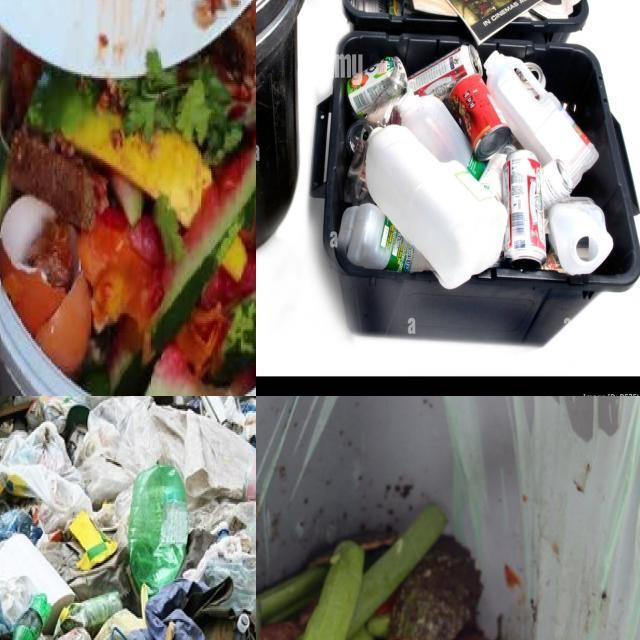Garbage: (0, 0, 256, 396), (336, 46, 613, 287), (0, 396, 256, 640), (256, 488, 519, 640)
Plastic_Bag: (74, 396, 186, 507), (0, 422, 93, 532), (28, 396, 128, 433), (54, 591, 122, 637)
Plastic_Container: (366, 125, 507, 289), (486, 53, 598, 187), (337, 203, 432, 272), (396, 90, 473, 167), (548, 196, 613, 276), (480, 144, 516, 202)
Plastic_bottle: (128, 465, 188, 595), (12, 593, 52, 640), (0, 510, 42, 542)
Tin_box: (449, 75, 511, 161)
can: (503, 151, 547, 269), (408, 44, 482, 102), (346, 56, 394, 116), (540, 159, 573, 210)
